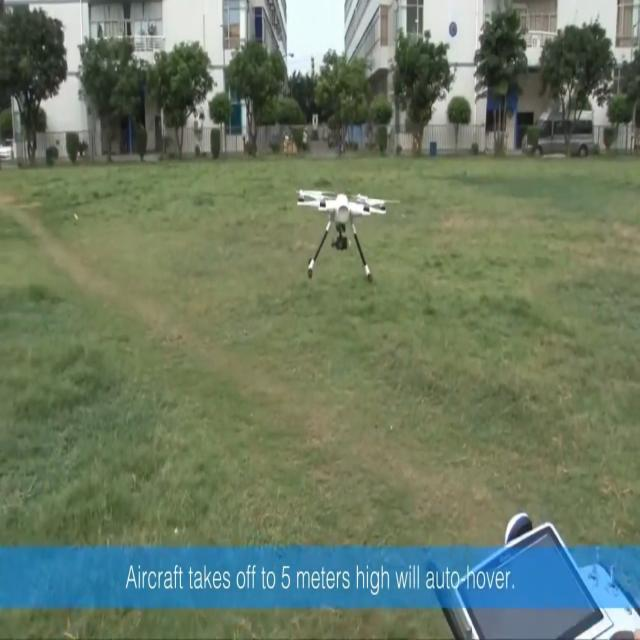drone: (296, 188, 400, 284)
